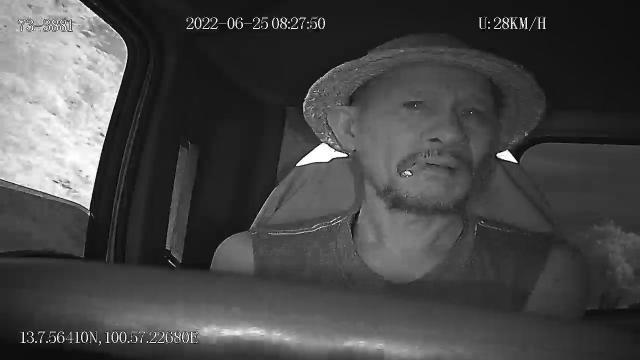SafeDriving: (396, 92, 436, 116), (454, 100, 488, 122)
Smoking: (402, 160, 430, 178)
